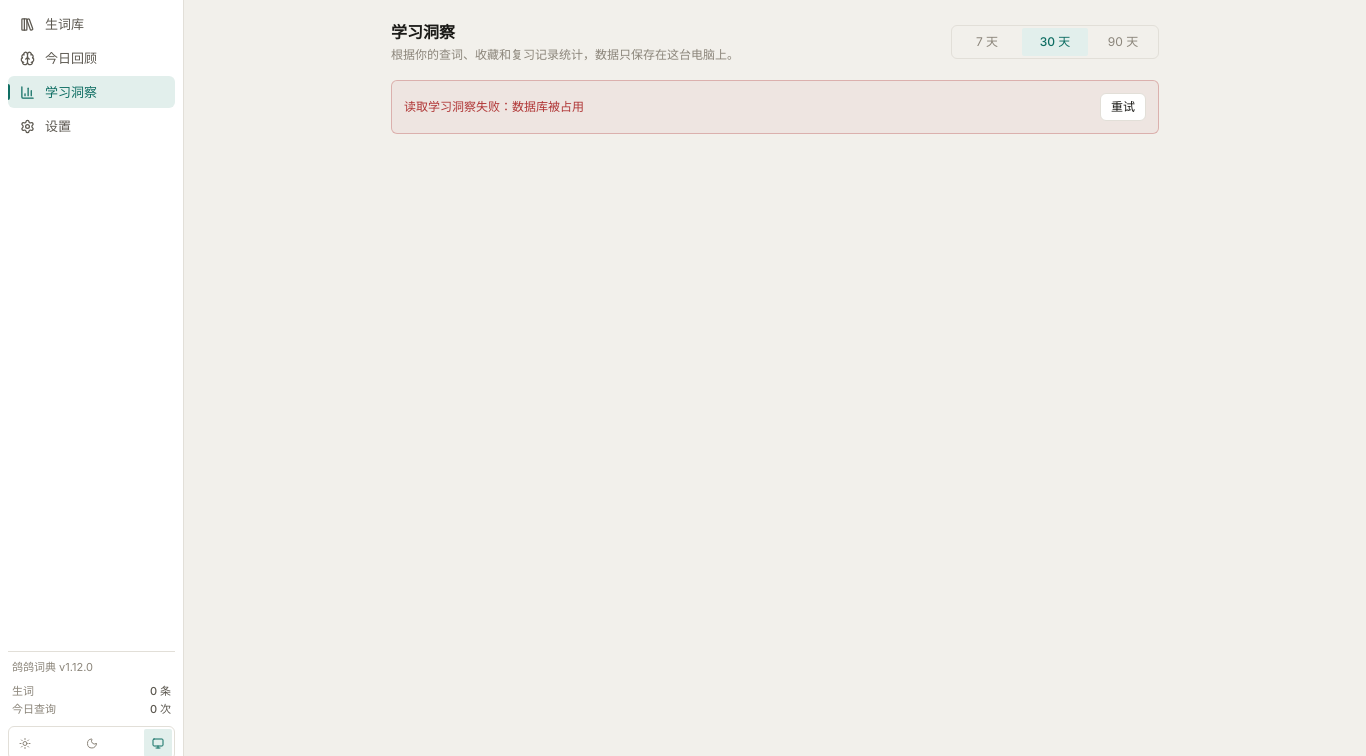
Test: the learning-insights page › says why nothing is shown when the figures cannot be read, and tries again on request
Expected: the message shows "读取学习洞察失败：数据库被占用", [391,80,1159,134]
Click the button "重试": click(1123, 107) [1100,93,1146,121]
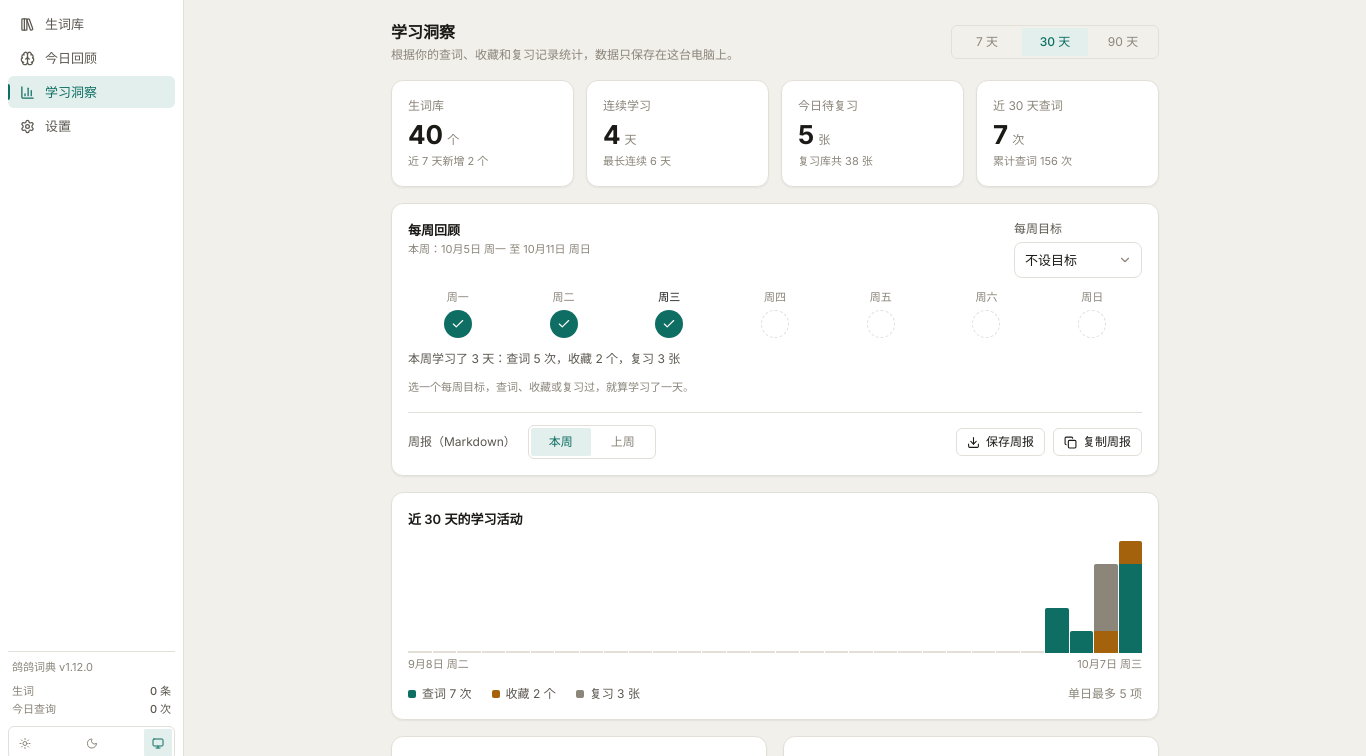
Now the element "生词库" is shown, box [391,80,574,187]
Now the message "读取学习洞察失败：数据库被占用 重试" is gone
